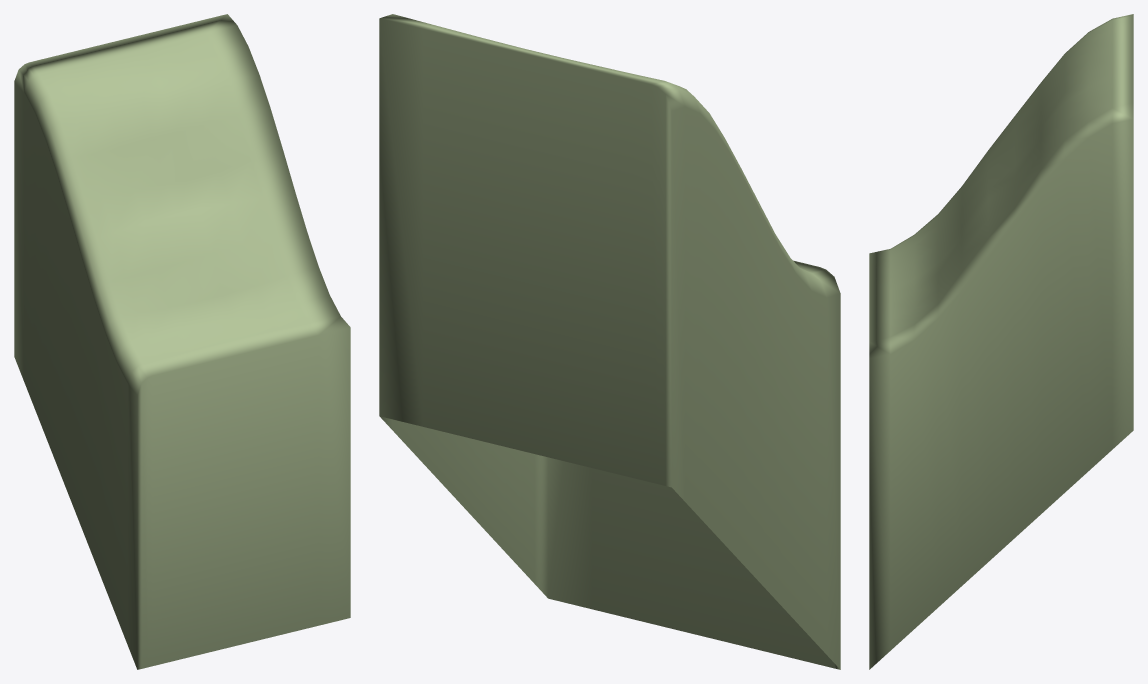
The model's file is ground-ramp-l-02.glb.
3 views of the same model, side by side, from view 1: azimuth 30°, elevation 25°; view 2: azimuth 150°, elevation 25°; view 3: azimuth 270°, elevation 25° (orthographic). The views are drawn at different scales.
Visible parts, largest first — view 1: ground-ramp-l-02; view 2: ground-ramp-l-02; view 3: ground-ramp-l-02.
Part boxes in pixels (<box>): ground-ramp-l-02: <box>14,14,350,669</box>; ground-ramp-l-02: <box>379,14,840,669</box>; ground-ramp-l-02: <box>869,14,1133,669</box>.
Bounding box in the file's own units: 1 × 2.3 × 1.
